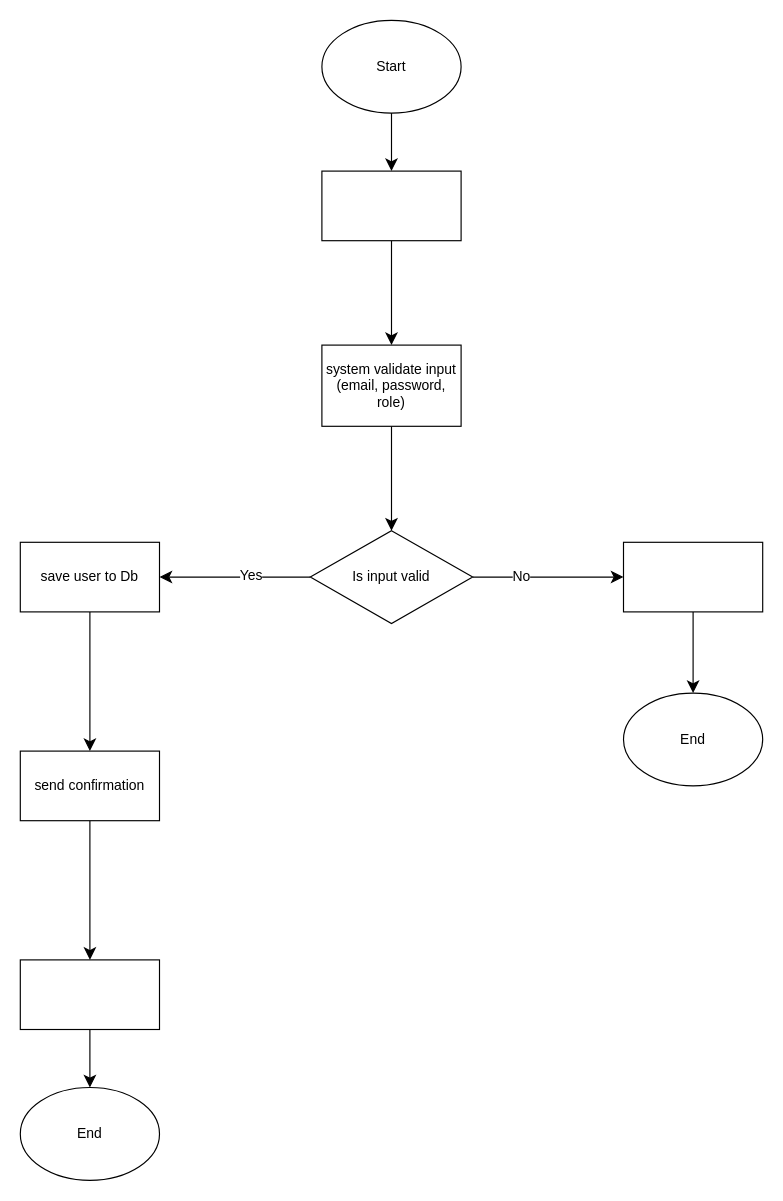
Some shapes in this 783 by 1201 pixel diagram are drawn without their labels. Here are the shapes that lost their labels. From the top down, the box of each, then its label:
(321, 170, 461, 241): User submits registration from
(622, 541, 763, 612): show error message
(19, 959, 160, 1030): send success message
